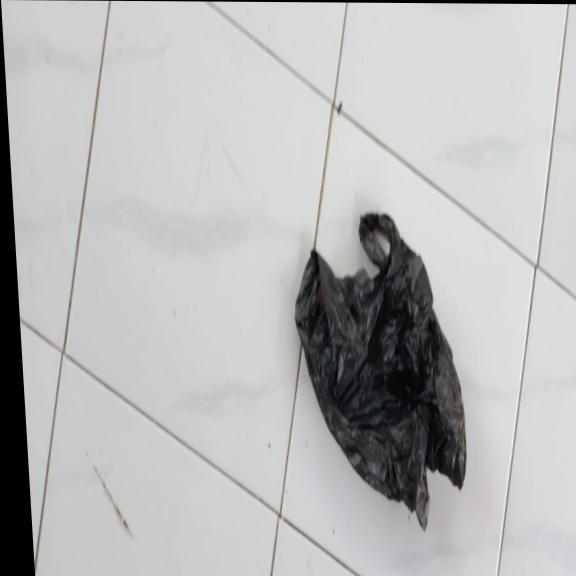Plastik: (286, 212, 471, 535)
